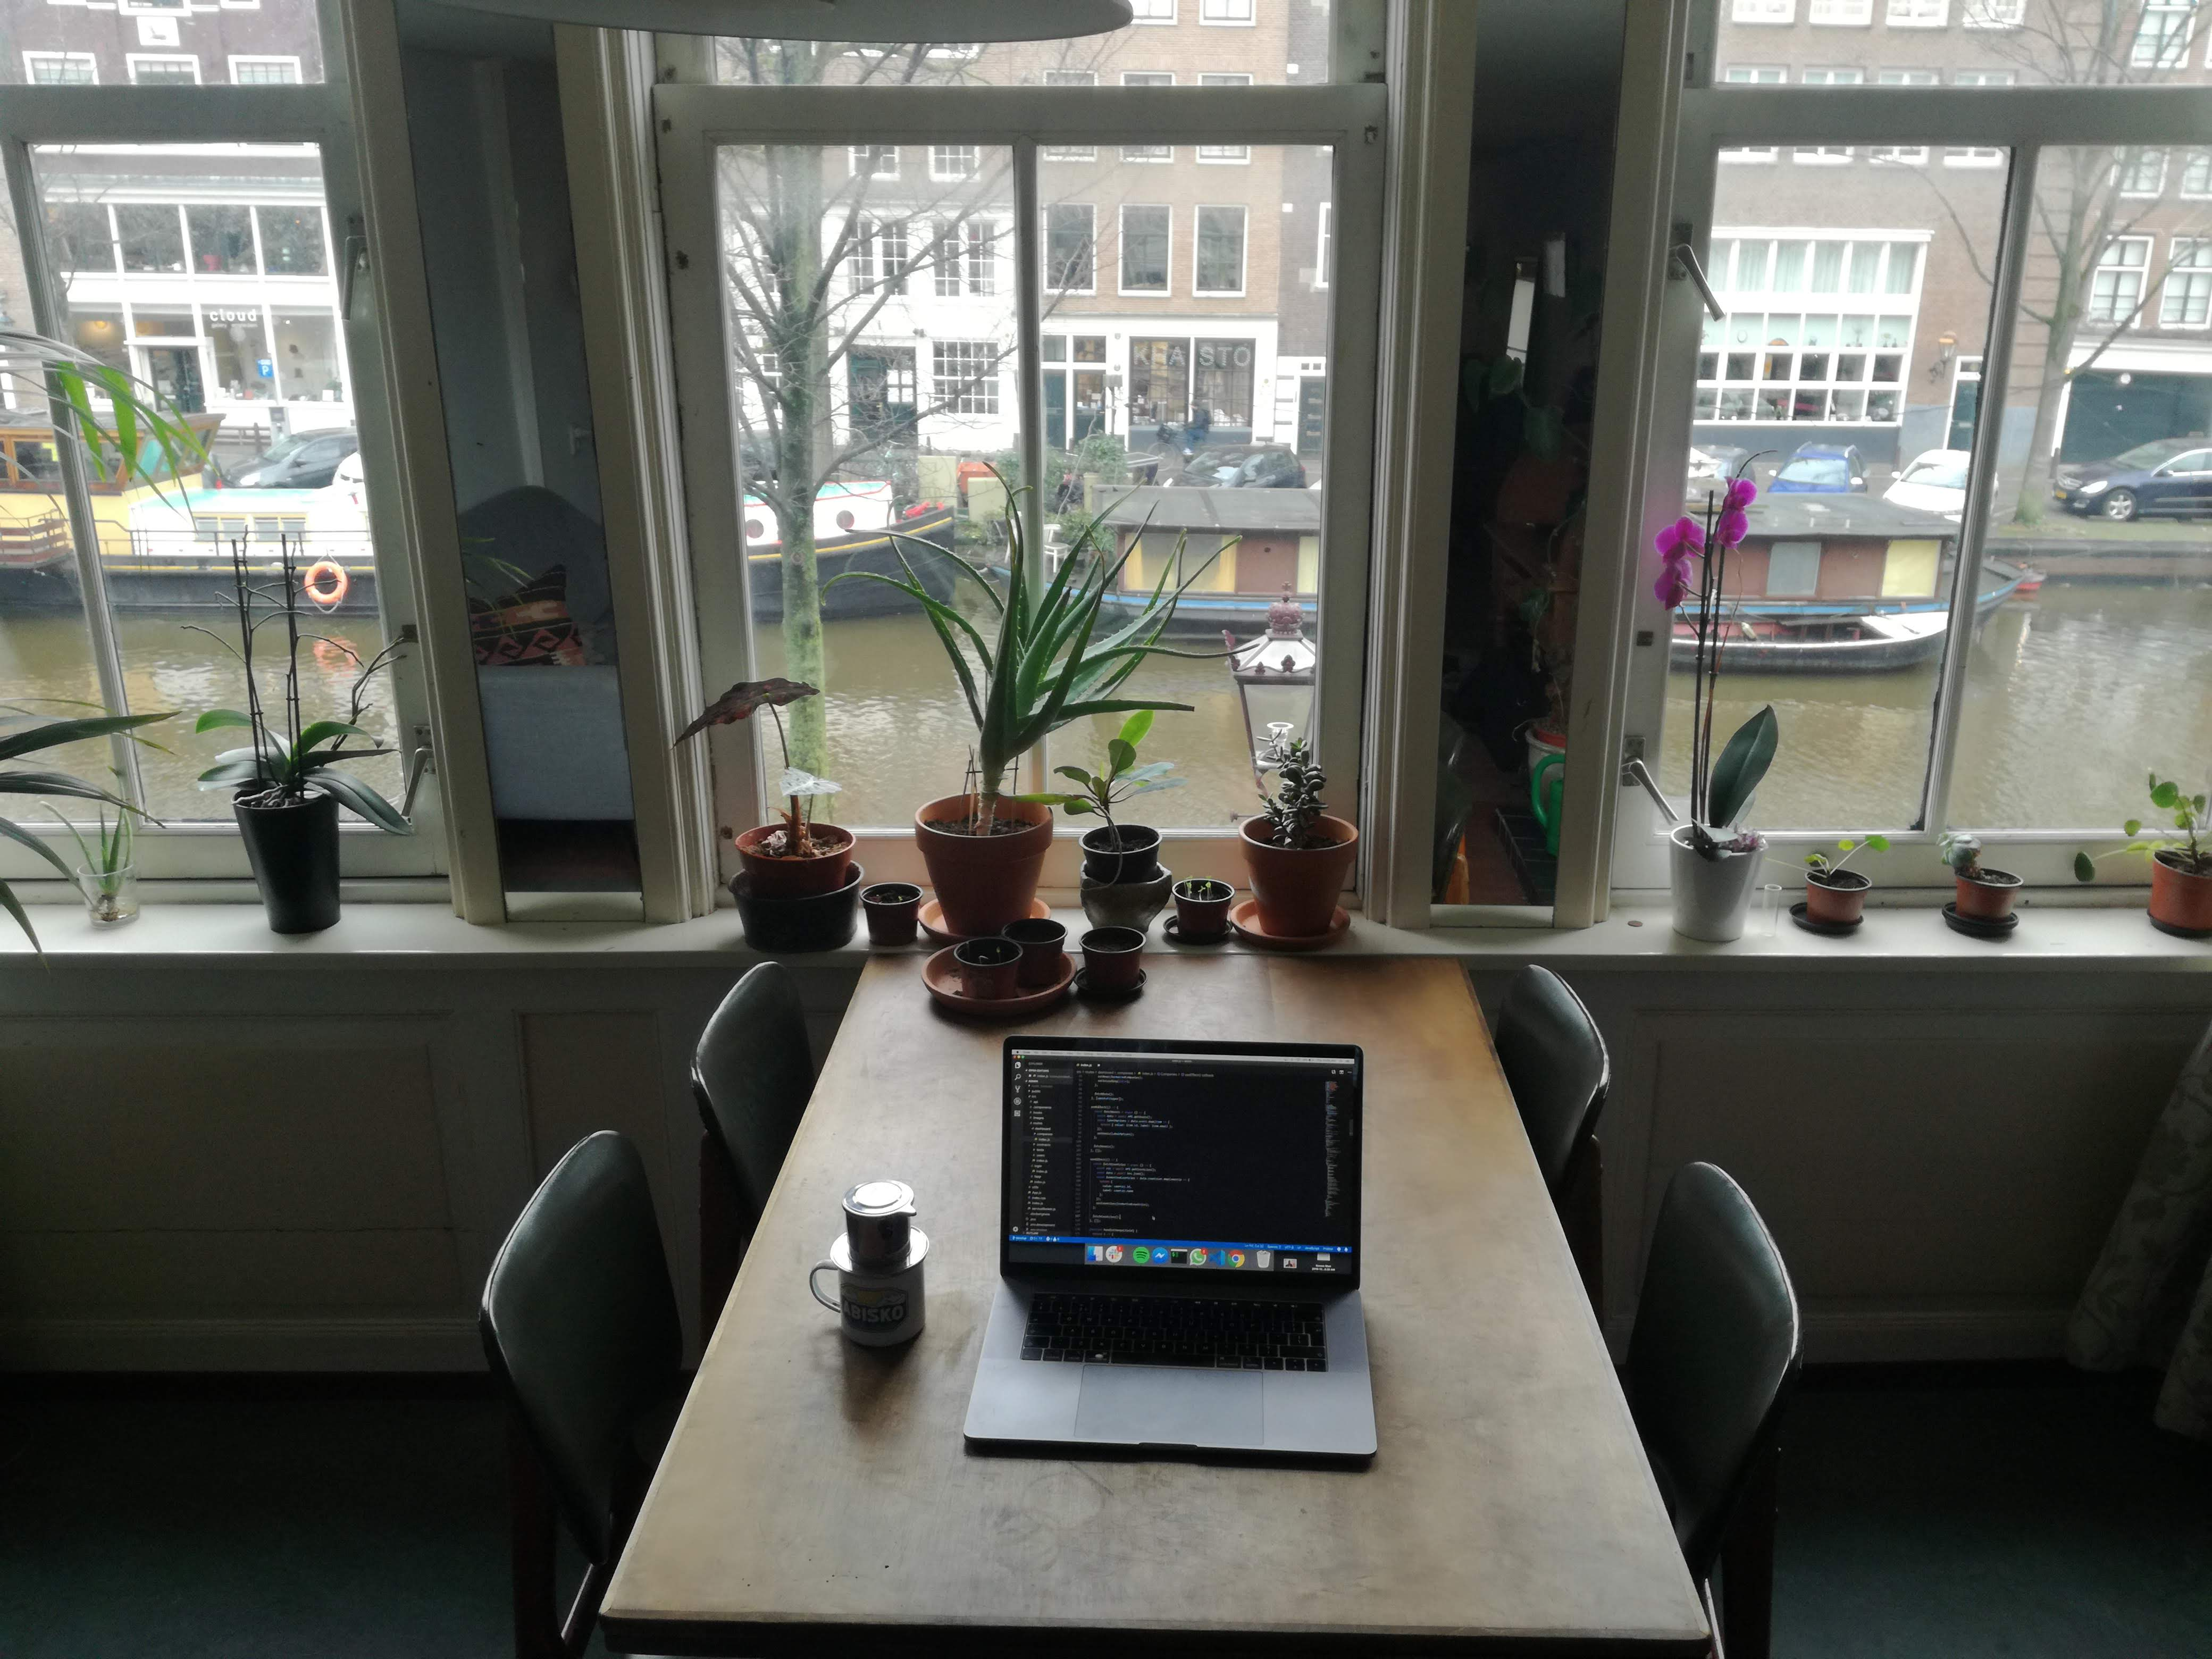Chair (Generic): (444, 1107, 686, 1612), (1606, 1154, 1804, 1638), (1467, 945, 1620, 1291), (636, 957, 819, 1202)
Decoration (Plant): (876, 465, 1252, 932), (1629, 469, 1799, 945), (199, 493, 369, 951), (658, 657, 867, 951), (1207, 713, 1369, 950), (1031, 706, 1191, 943), (2064, 767, 2212, 943), (1780, 835, 1892, 946), (1925, 831, 2036, 941)
Desk (Generic): (529, 941, 1730, 1659)
Laptop (OSX): (960, 1019, 1406, 1497)
Monitor (Laptop): (984, 1023, 1392, 1321)
Mug: (789, 1169, 937, 1370)
